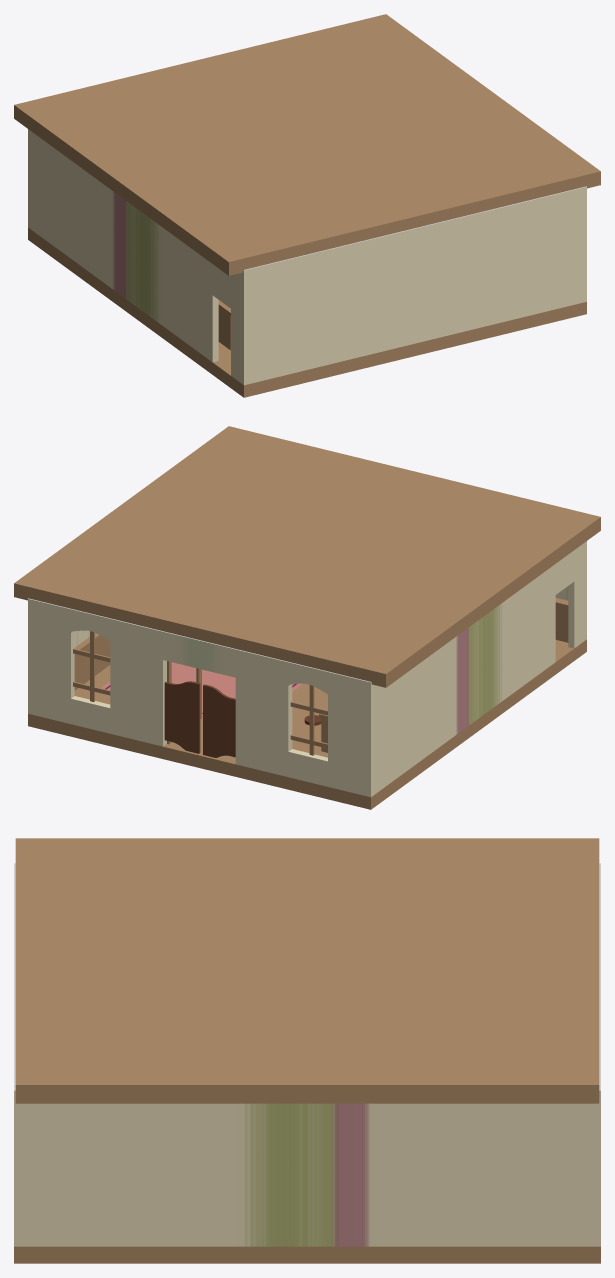
Rendered from bar_salloon_003_BLOCKOUT.fbx.
The picture shows the model from 3 angles, top to bottom: view 1: azimuth 30°, elevation 25°; view 2: azimuth 150°, elevation 25°; view 3: azimuth 270°, elevation 25°; orthographic projection. The views are drawn at different scales.
Visible parts, largest first — view 1: roof, walls, floor, Cube; view 2: roof, walls, floor, Cube.006, walls.001, Cube.008, fighting; view 3: roof, walls, floor.
Boxes of the visible parts, x1,y1,x2,y2 form: roof: [14, 14, 600, 275]; walls: [28, 129, 586, 385]; floor: [28, 227, 586, 397]; Cube: [218, 302, 230, 350]; roof: [14, 426, 600, 687]; walls: [28, 541, 586, 797]; floor: [28, 639, 586, 809]; Cube.006: [164, 681, 235, 757]; walls.001: [74, 598, 568, 690]; Cube.008: [73, 631, 327, 755]; fighting: [101, 662, 302, 716]; roof: [15, 838, 599, 1103]; walls: [14, 863, 600, 1246]; floor: [14, 1246, 600, 1263].
Bounding box in the file's own units: 12.37 × 4.83 × 12.44.
